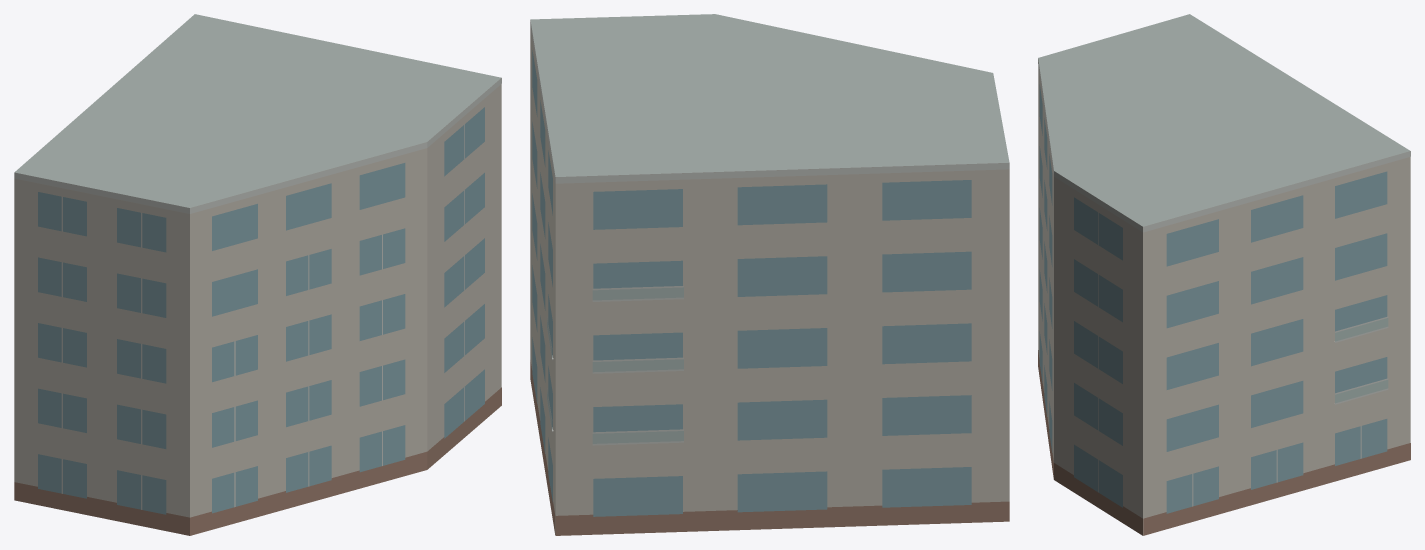
The model's file is survey-upis-32952299.glb.
3 views of the same model, side by side, from view 1: azimuth 30°, elevation 25°; view 2: azimuth 150°, elevation 25°; view 3: azimuth 270°, elevation 25° (orthographic). The views are drawn at different scales.
Parts seen in each view (by area): view 1: survey-upis-32952299.tmp; view 2: survey-upis-32952299.tmp; view 3: survey-upis-32952299.tmp.
Part boxes in pixels (x1,y1,x2,y2): survey-upis-32952299.tmp: (14, 14, 501, 535); survey-upis-32952299.tmp: (530, 14, 1009, 535); survey-upis-32952299.tmp: (1038, 14, 1410, 535).
Bounding box in the file's own units: 19.5 × 13.2 × 14.43.
